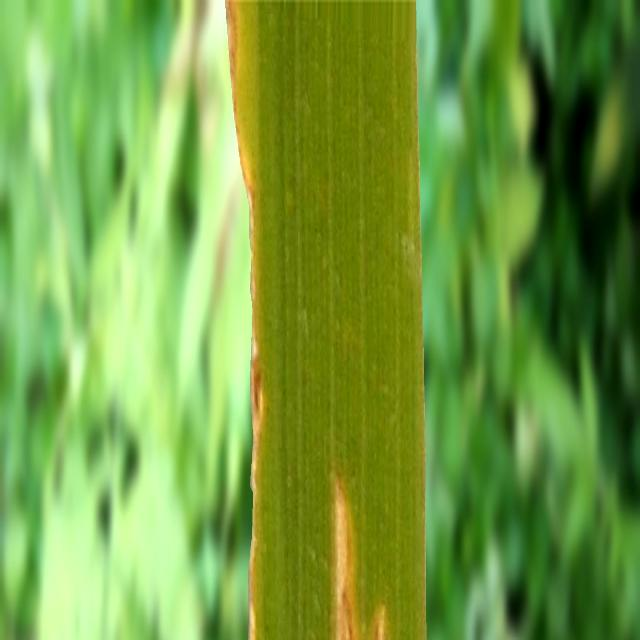BLS: (335, 481, 353, 640), (375, 609, 387, 640)
